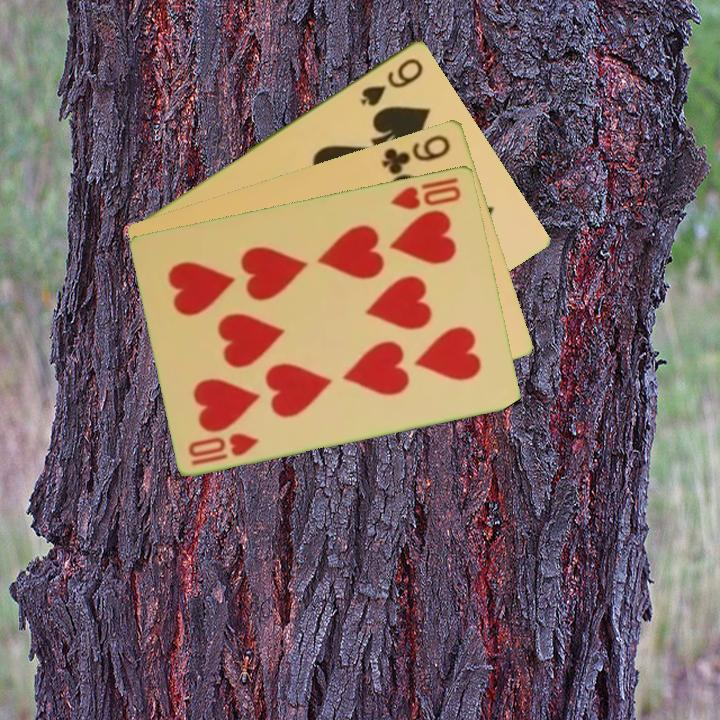10h: (185, 428, 262, 468), (387, 173, 464, 212)
9c: (378, 130, 454, 177)
9s: (357, 53, 427, 109)
